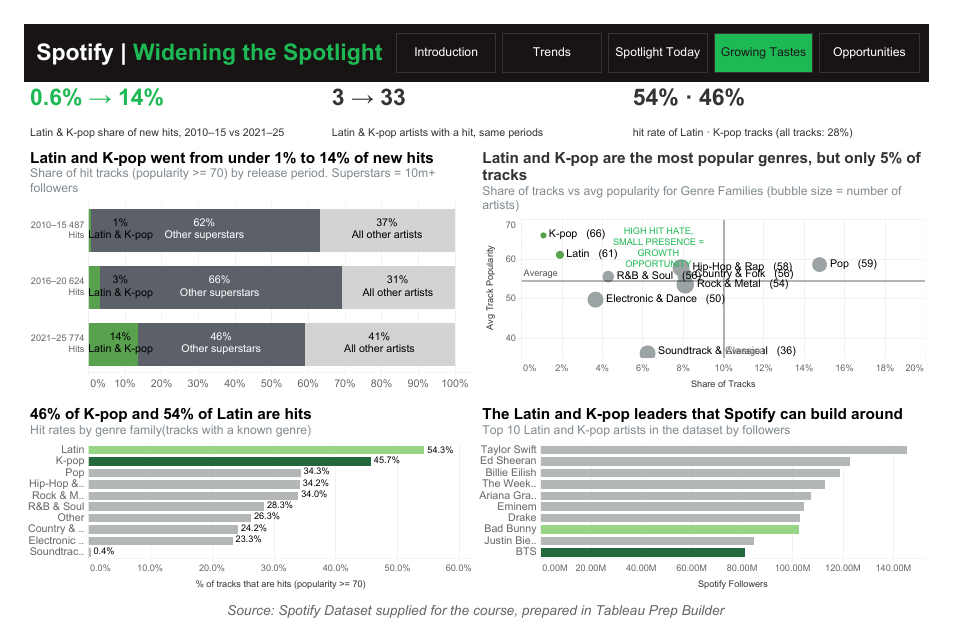

The page's visual inventory and layout, read from the dashboard file:
{"tool":"tableau","page":{"name":"Growing Tastes","canvas":[1200,800],"ordinal":0},"visuals":[{"type":"text","box":[16,16,475,60]},{"type":"dashboard-object","box":[491,16,138.6,60]},{"type":"dashboard-object","box":[629.6,16,138.6,60]},{"type":"dashboard-object","box":[768.2,16,138.6,60]},{"type":"dashboard-object","box":[906.8,16,138.6,60]},{"type":"dashboard-object","box":[1045.4,16,138.6,60]},{"type":"text","box":[8,84,395,78]},{"type":"text","box":[403,84,394,78]},{"type":"text","box":[797,84,395,78]},{"type":"worksheet","title":"Who Gets the Hits","mark":"Bar","rows":["Calculation_0468178391973888"],"box":[8,162,592,336]},{"type":"worksheet","title":"Genre Oppotunity Matrix","mark":"Circle","rows":["Calculation_39468955160174595"],"box":[600,162,592,336]},{"type":"worksheet","title":"Hit Rate by Genre","mark":"Automatic","rows":["Genre Family"],"cols":["Calculation_39468955160711173"],"box":[8,498,592,262]},{"type":"worksheet","title":"Latin & K-pop Leaders","mark":"Automatic","rows":["artist_name"],"cols":["artist_followers"],"box":[600,498,592,262]},{"type":"text","box":[8,760,1184,32]}]}

Visuals, with their boxes in screenshot pixels (x1, y1, x2, y2), scaled from the page's 1200x800 canvas onto the 953x642 screenshot:
text: 13,13,390,61
dashboard-object: 390,13,500,61
dashboard-object: 500,13,610,61
dashboard-object: 610,13,720,61
dashboard-object: 720,13,830,61
dashboard-object: 830,13,940,61
text: 6,67,320,130
text: 320,67,633,130
text: 633,67,947,130
"Who Gets the Hits" worksheet (Bar marks): 6,130,476,400
"Genre Oppotunity Matrix" worksheet (Circle marks): 476,130,947,400
"Hit Rate by Genre" worksheet: 6,400,476,610
"Latin & K-pop Leaders" worksheet: 476,400,947,610
text: 6,610,947,636
